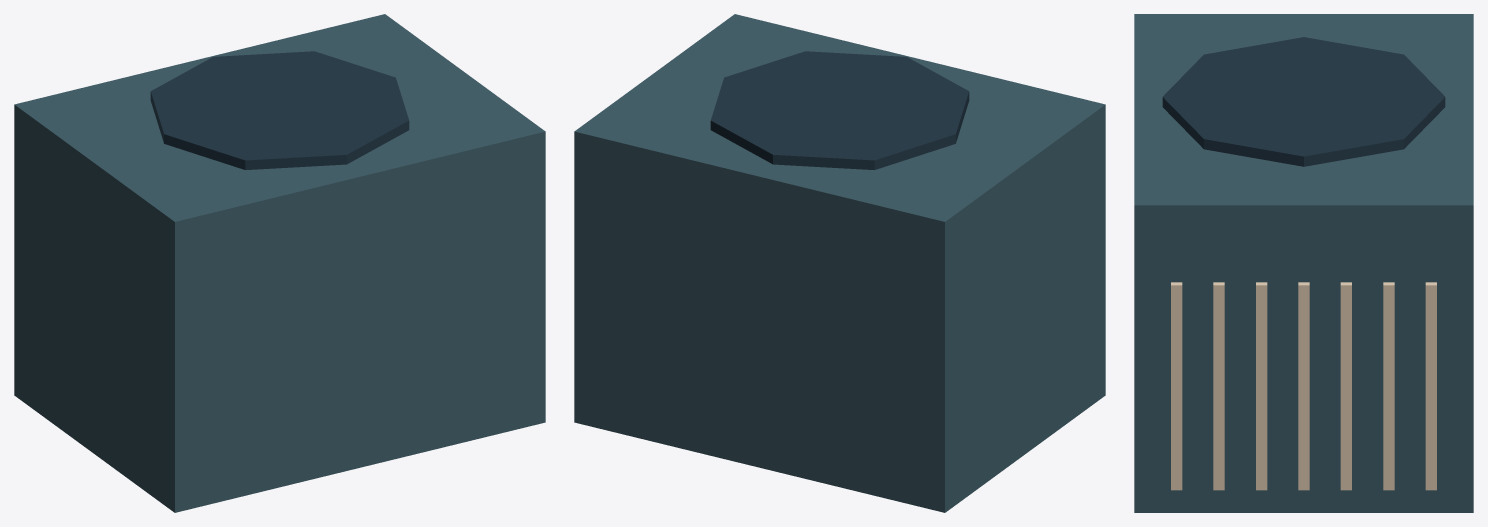
The model's file is airConditioner.obj.
The picture shows the model from 3 angles, left to right: view 1: azimuth 30°, elevation 25°; view 2: azimuth 150°, elevation 25°; view 3: azimuth 270°, elevation 25°; orthographic projection. The views are drawn at different scales.
Parts seen in each view (by area): view 1: airConditioner; view 2: airConditioner; view 3: airConditioner.
Part boxes in pixels (x1,y1,x2,y2): airConditioner: (14, 14, 545, 512); airConditioner: (574, 14, 1105, 512); airConditioner: (1134, 14, 1473, 512).
Size of the model in its own units: 1.62 by 1.25 by 1.2.
